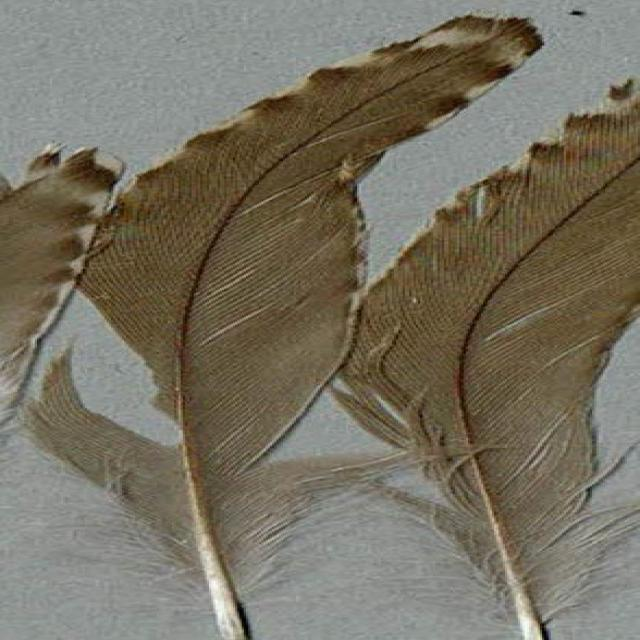feather: (40, 13, 544, 640), (341, 74, 640, 640)
